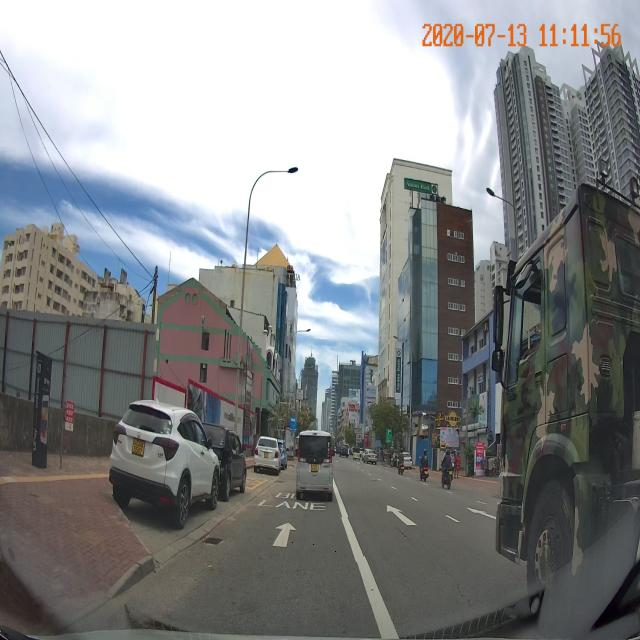forward: (168, 517, 364, 562)
